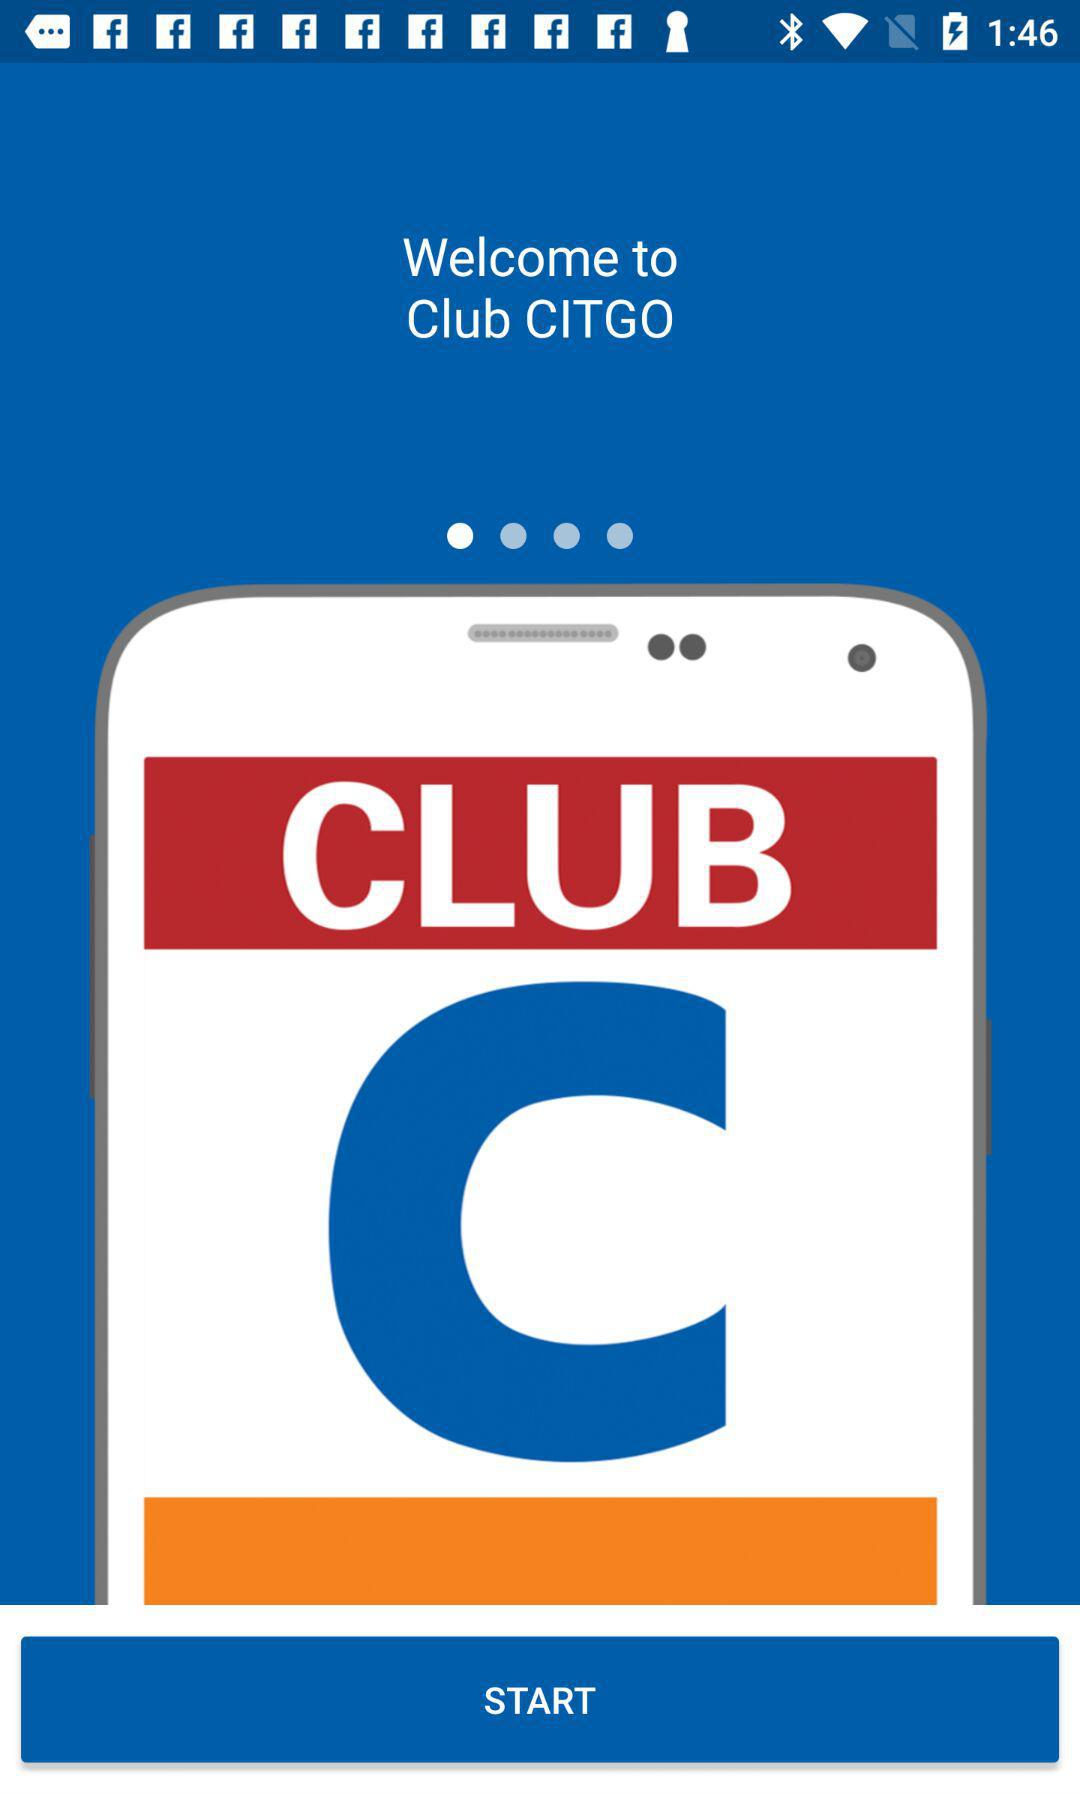Image: (90, 583, 992, 1606)
PageIndicator: (446, 522, 635, 551)
Text: (404, 236, 678, 340)
TextButton: (20, 1636, 1060, 1763)
UpperTaskBar: (1, 1, 1080, 64)
